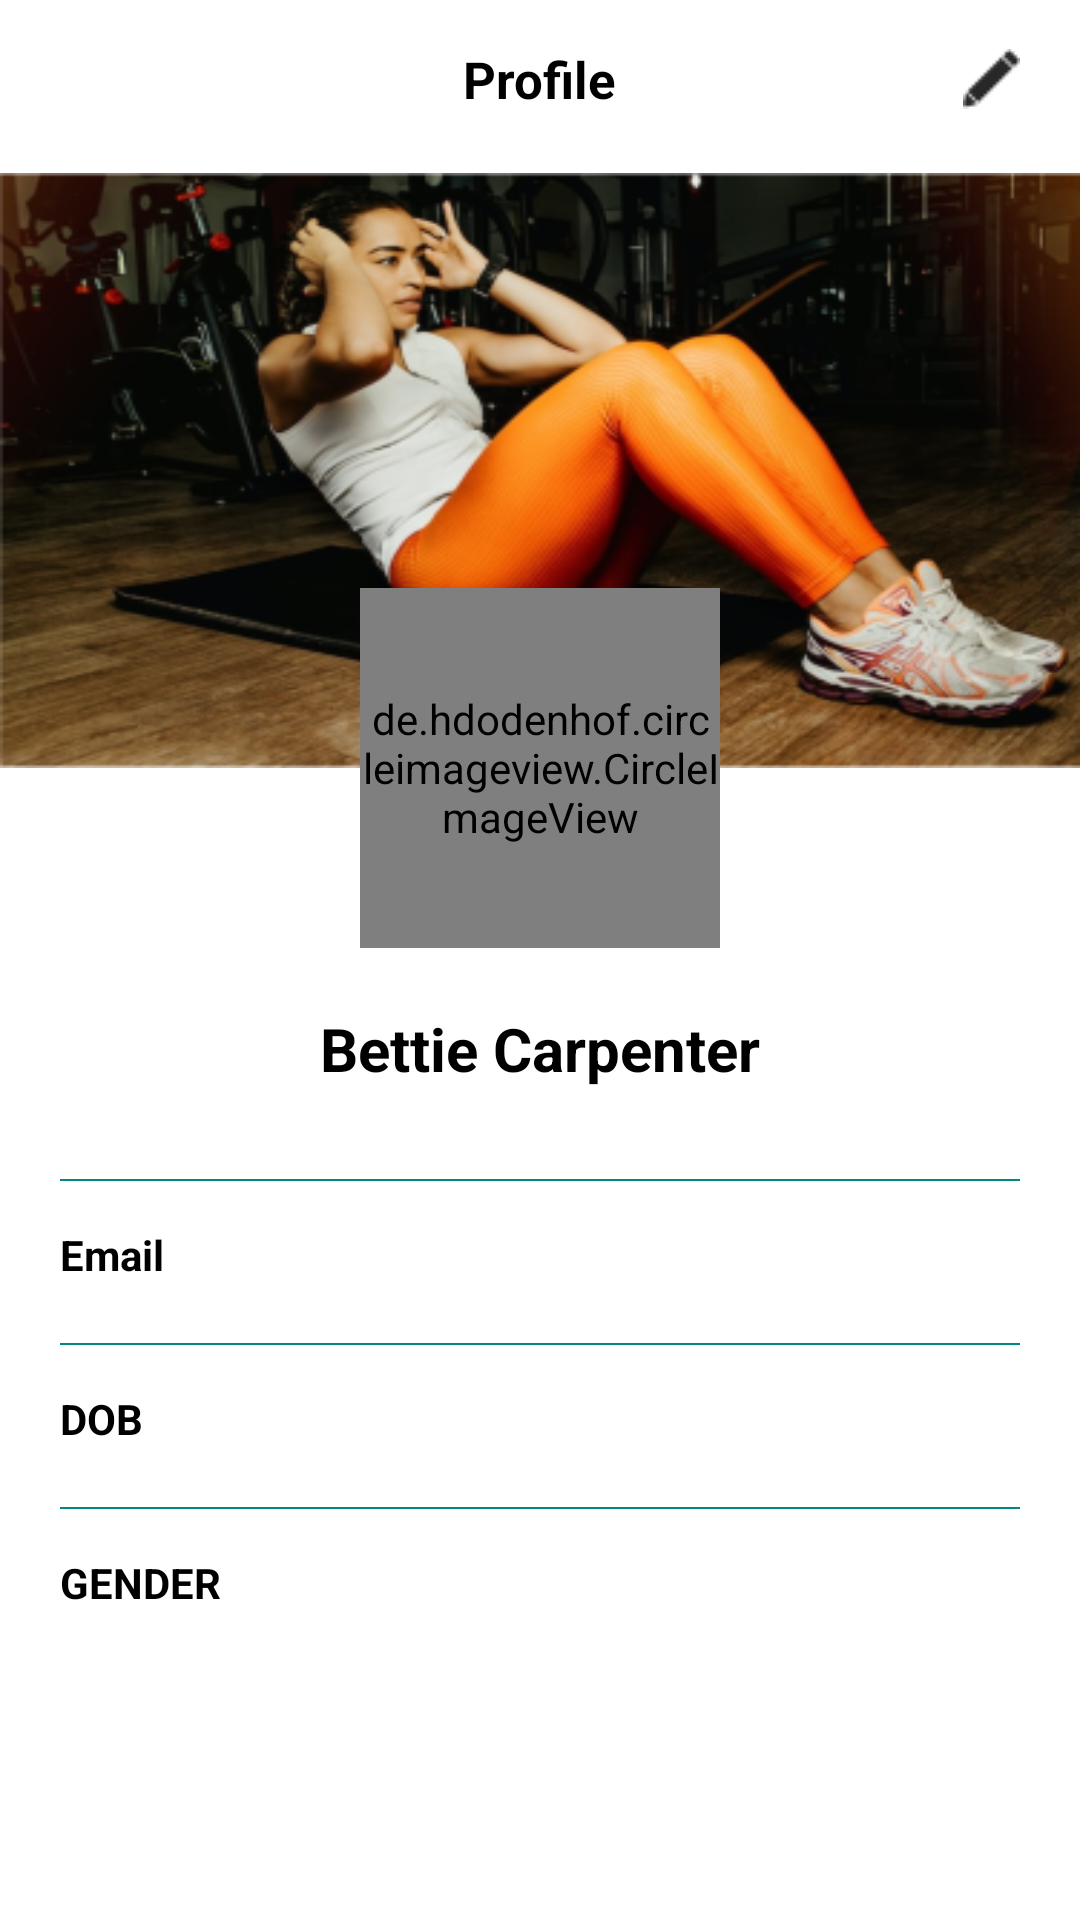

Icon bounding boxes for this 1080*1920 phone screenshot, format (x1, y1, x2, y2):
edit: (963, 49, 1020, 109)
